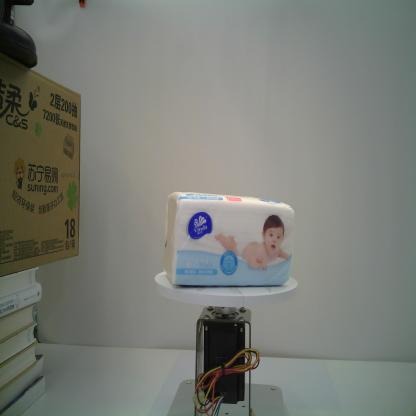Tissue: (162, 191, 296, 287)
